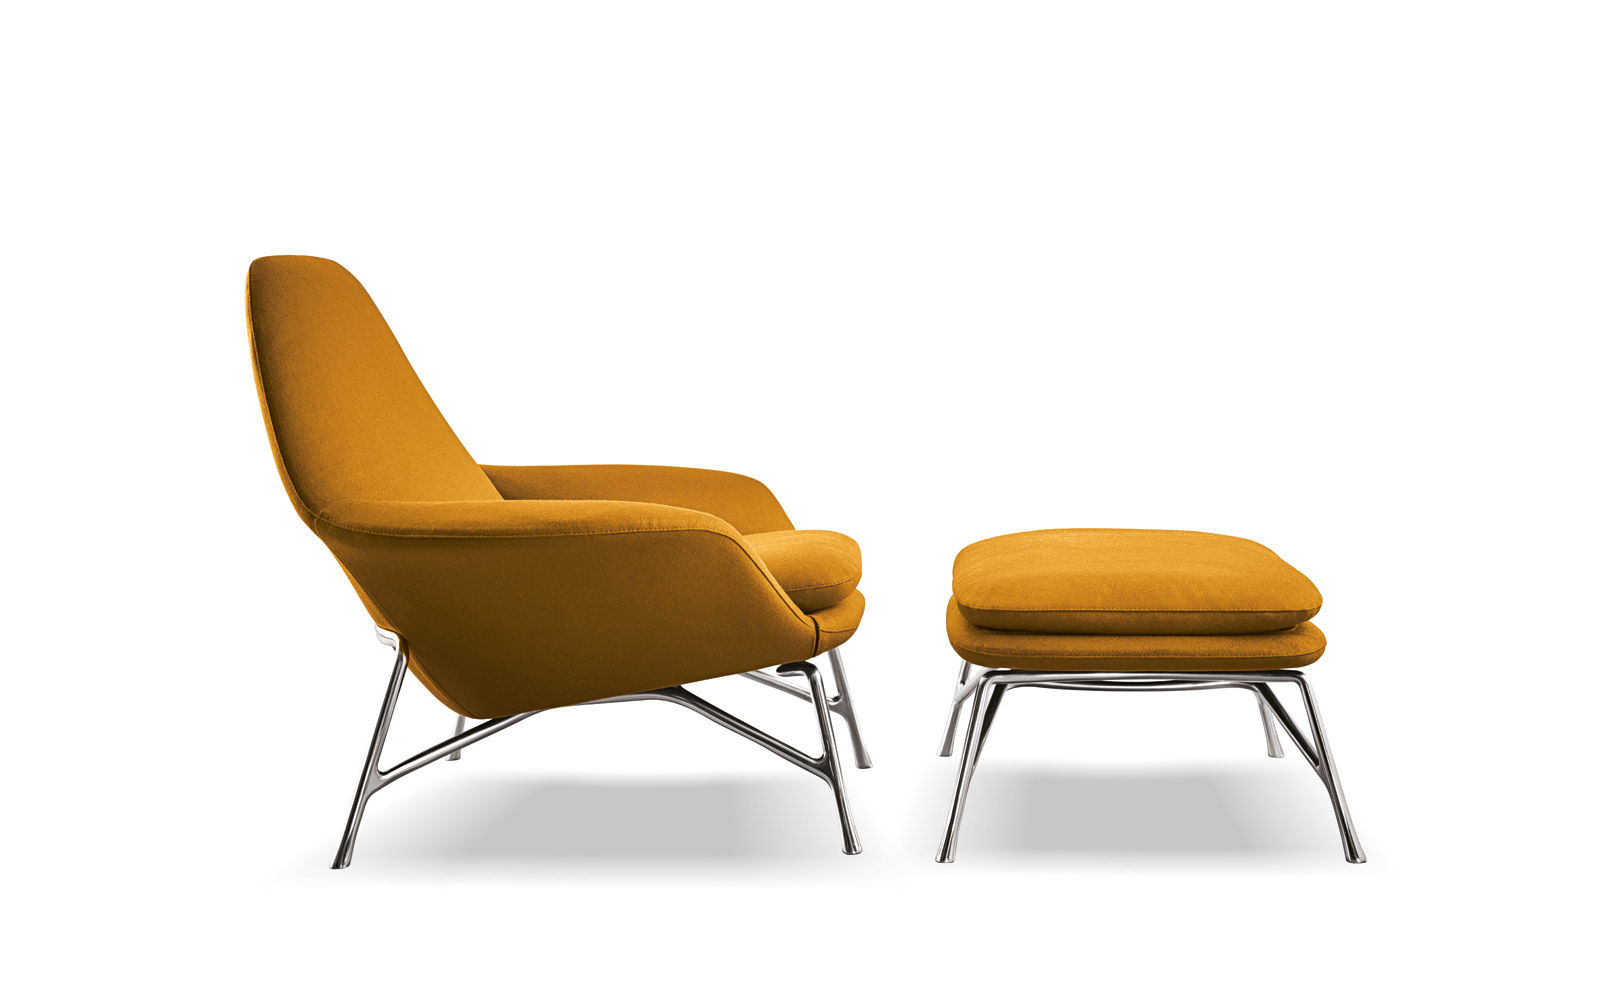chairs: (232, 248, 864, 876), (924, 524, 1372, 876)
